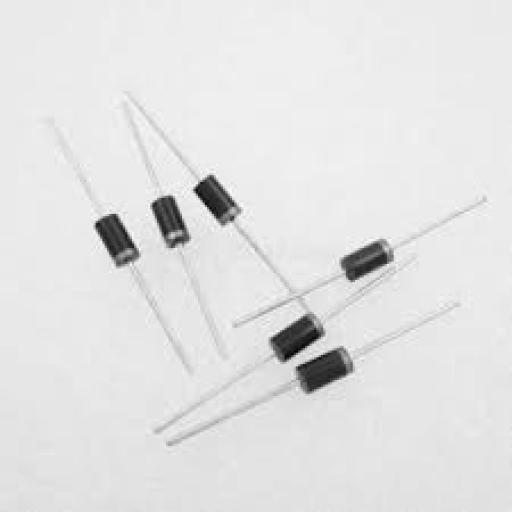DIODE: (41, 89, 487, 446)
